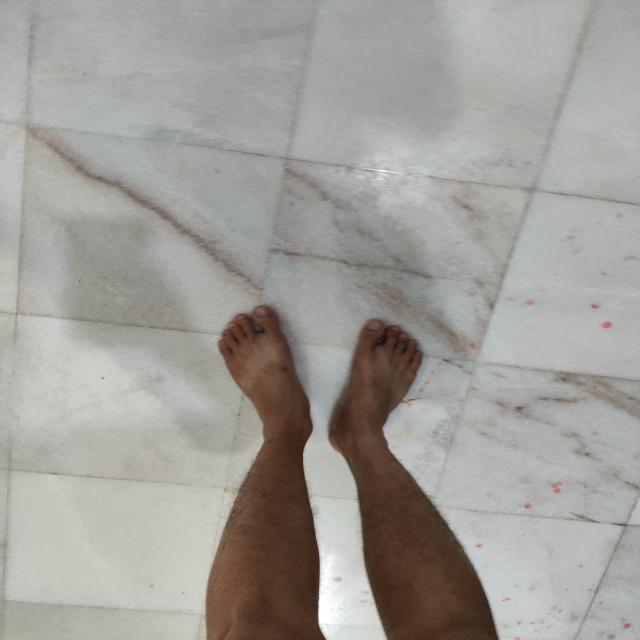No_Shoes: (192, 281, 307, 467), (322, 286, 415, 462)
